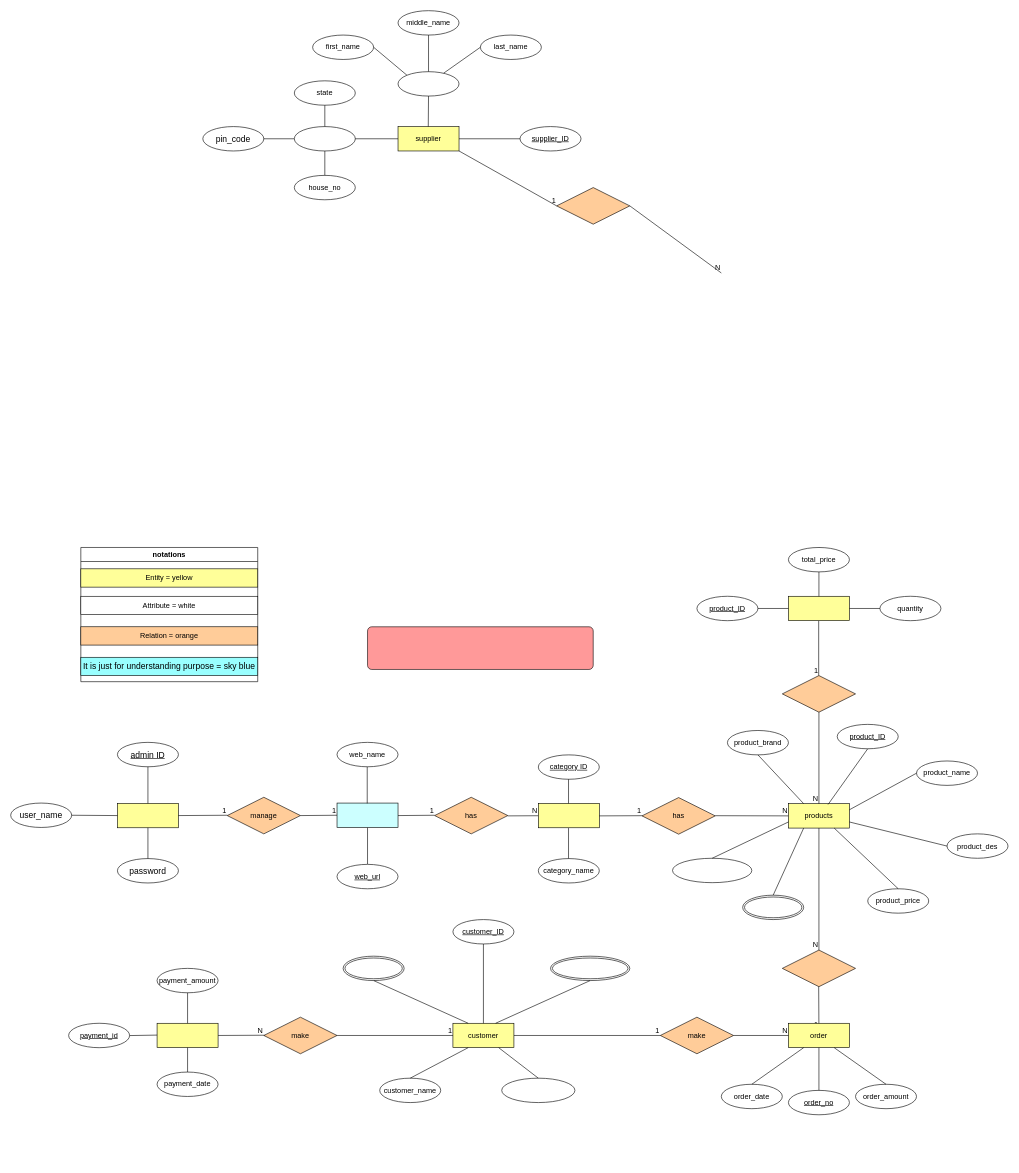
This 1019x1173 diagram has some shape labels left out. The centre of each missing label's shape, as x and y in pixels:
"added to" belongs at [819,693].
"address" belongs at [324,138].
"admin" belongs at [147,815].
"cart" belongs at [818,608].
"contains" belongs at [819,968].
"customer_address" belongs at [538,1090].
"customer_email" belongs at [373,968].
"customer_phoneno" belongs at [590,968].
"E COMMERCE WEB APPLICATION" belongs at [480,647].
"payment" belongs at [187,1035].
"product category" belongs at [568,815].
"product_images" belongs at [773,907].
"product_specifications" belongs at [712,870].
"supplier_name" belongs at [428,83].
"supplies" belongs at [593,205].
"web_application" belongs at [367,814].
